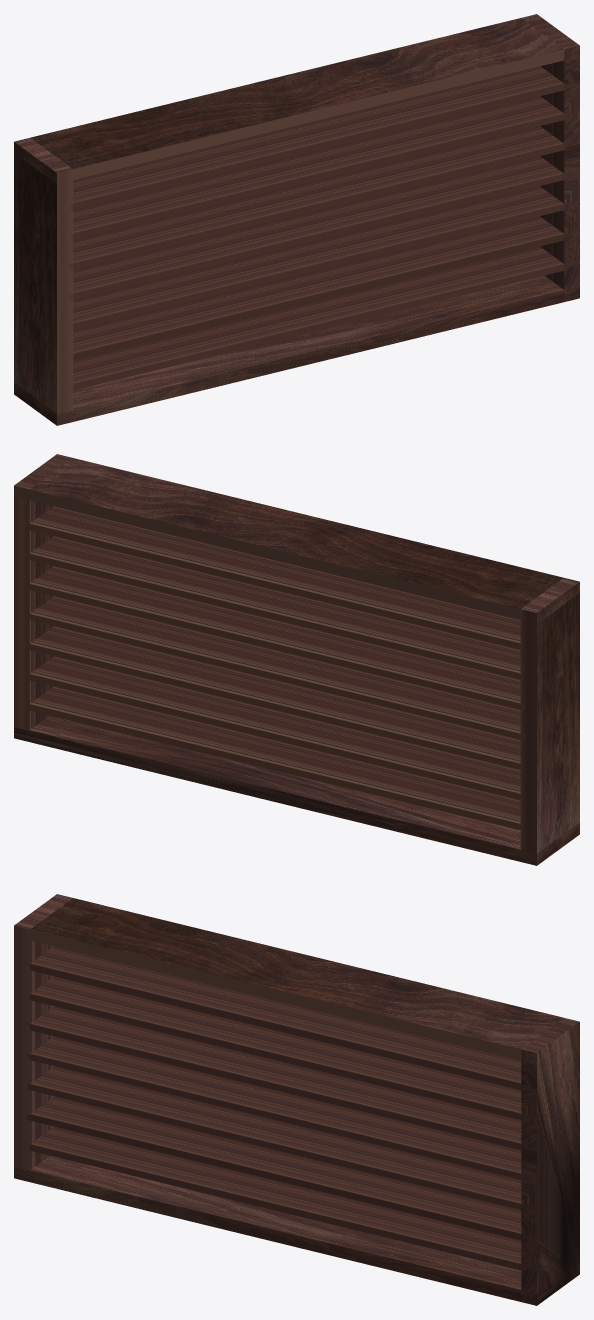
Rendered from Bookshelf.fbx.
The picture shows the model from 3 angles, top to bottom: view 1: azimuth 30°, elevation 25°; view 2: azimuth 150°, elevation 25°; view 3: azimuth 330°, elevation 25°; orthographic projection.
Parts seen in each view (by area): view 1: Cube; view 2: Cube; view 3: Cube.
Boxes of the visible parts, x1,y1,x2,y2 form: Cube: [14, 14, 579, 425]; Cube: [14, 454, 579, 865]; Cube: [14, 894, 579, 1305].
Bounding box in the file's own units: 702 × 324 × 100.
